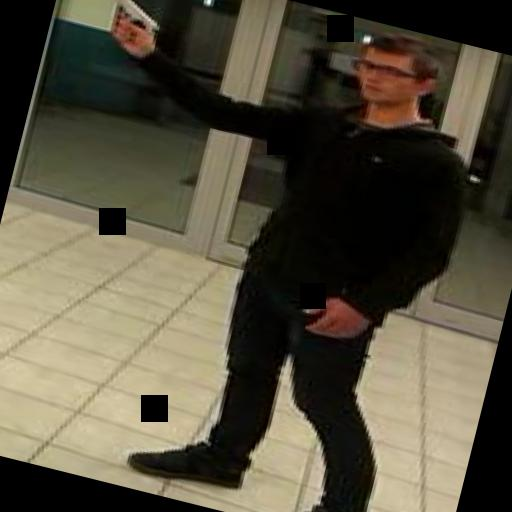Handgun: (83, 0, 165, 59)
